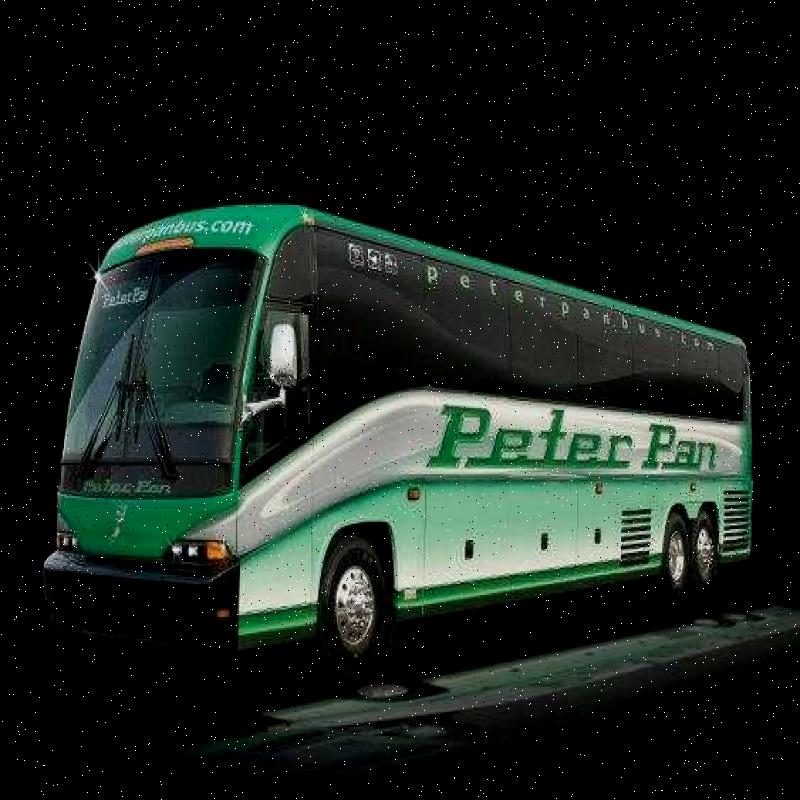bus: (56, 191, 771, 643)
